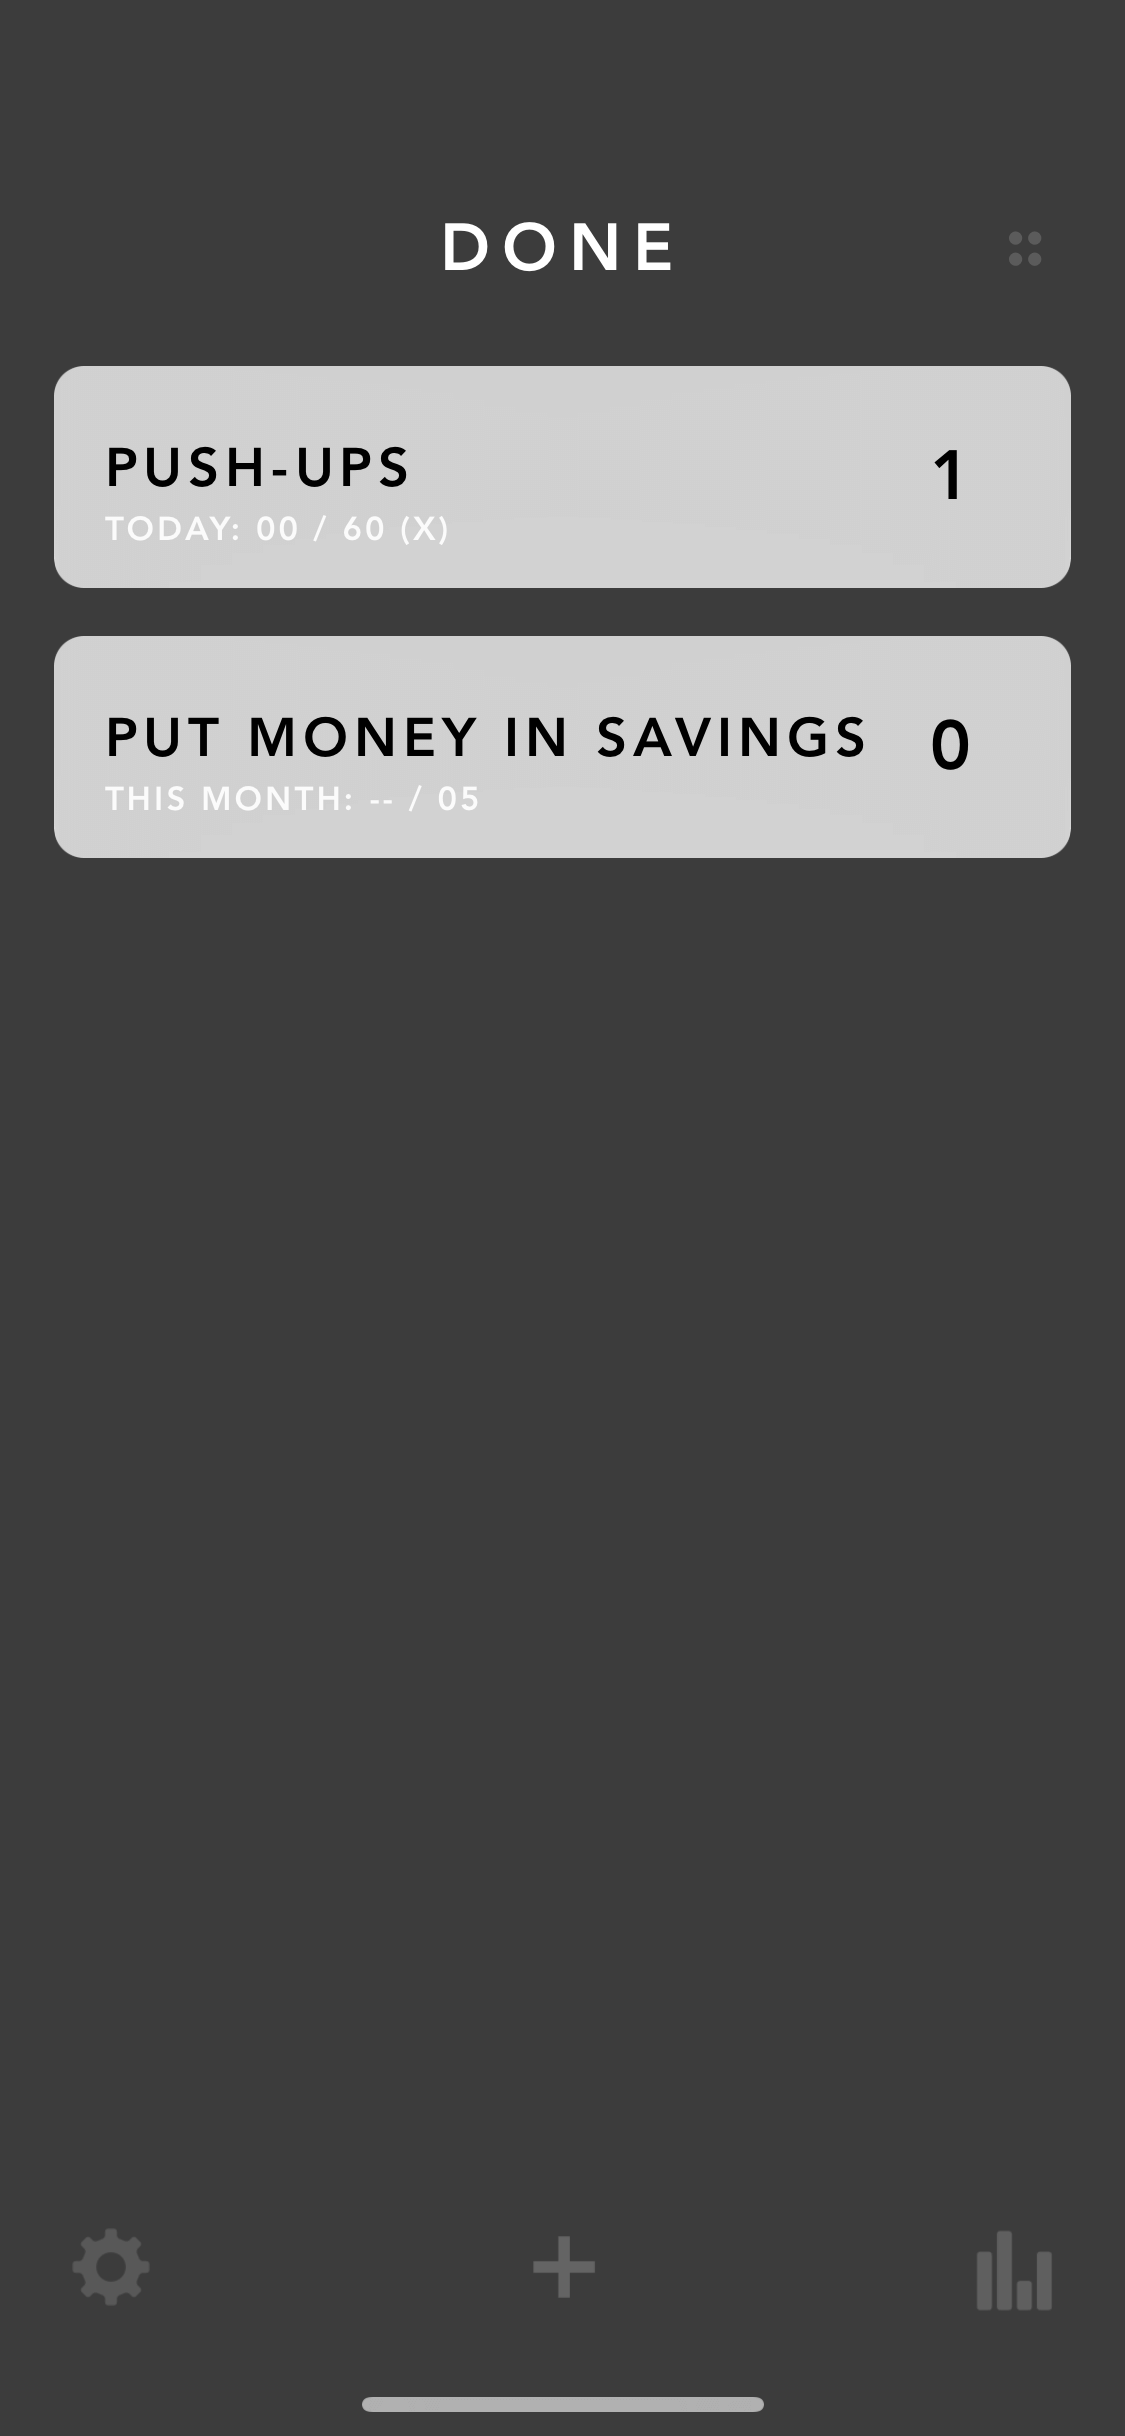Buttons: (926, 2198, 1086, 2344), (486, 2203, 631, 2337), (42, 2201, 180, 2335), (971, 197, 1078, 303)
